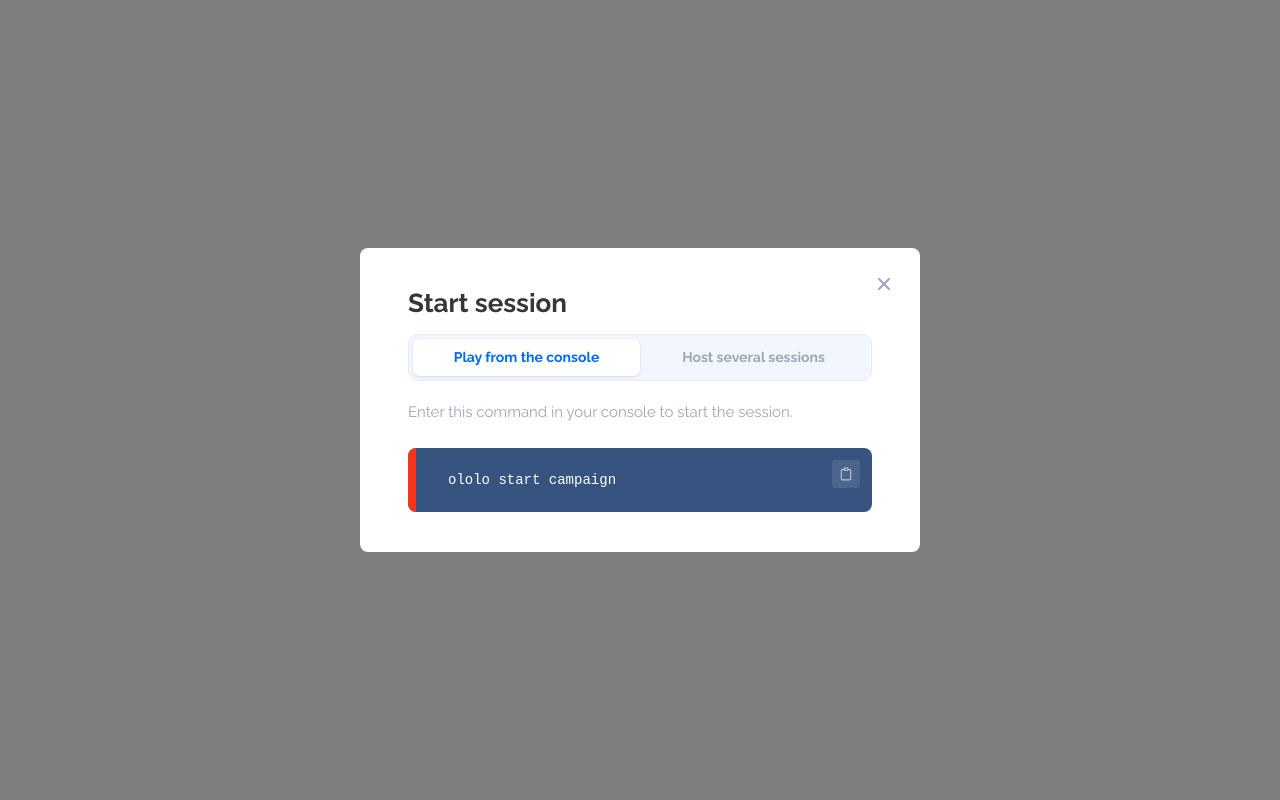
StartSessionPopup › says why the server refused
The image size is (1280, 800).
Click the tab "Host several sessions".
click(754, 358)  # box [640, 339, 867, 376]
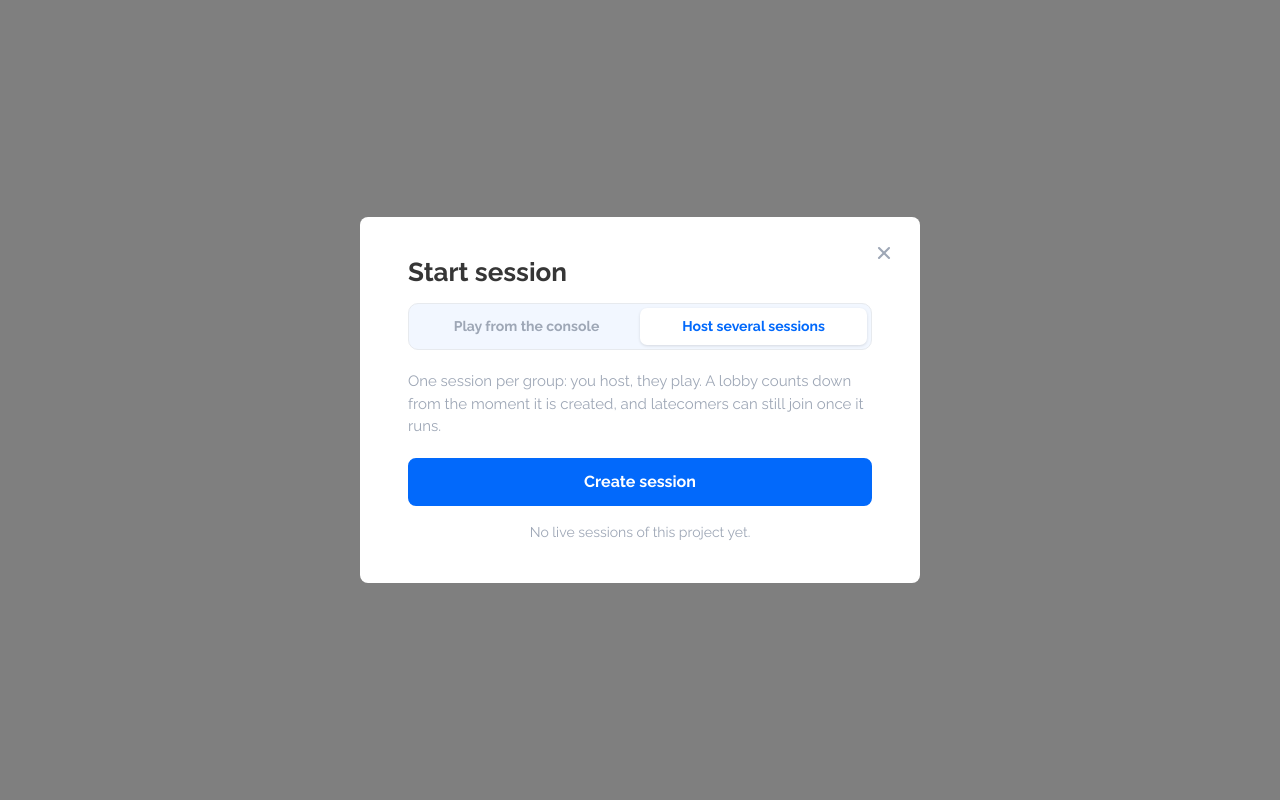
Click the button "Create session".
click(640, 482)  # box [408, 458, 872, 506]
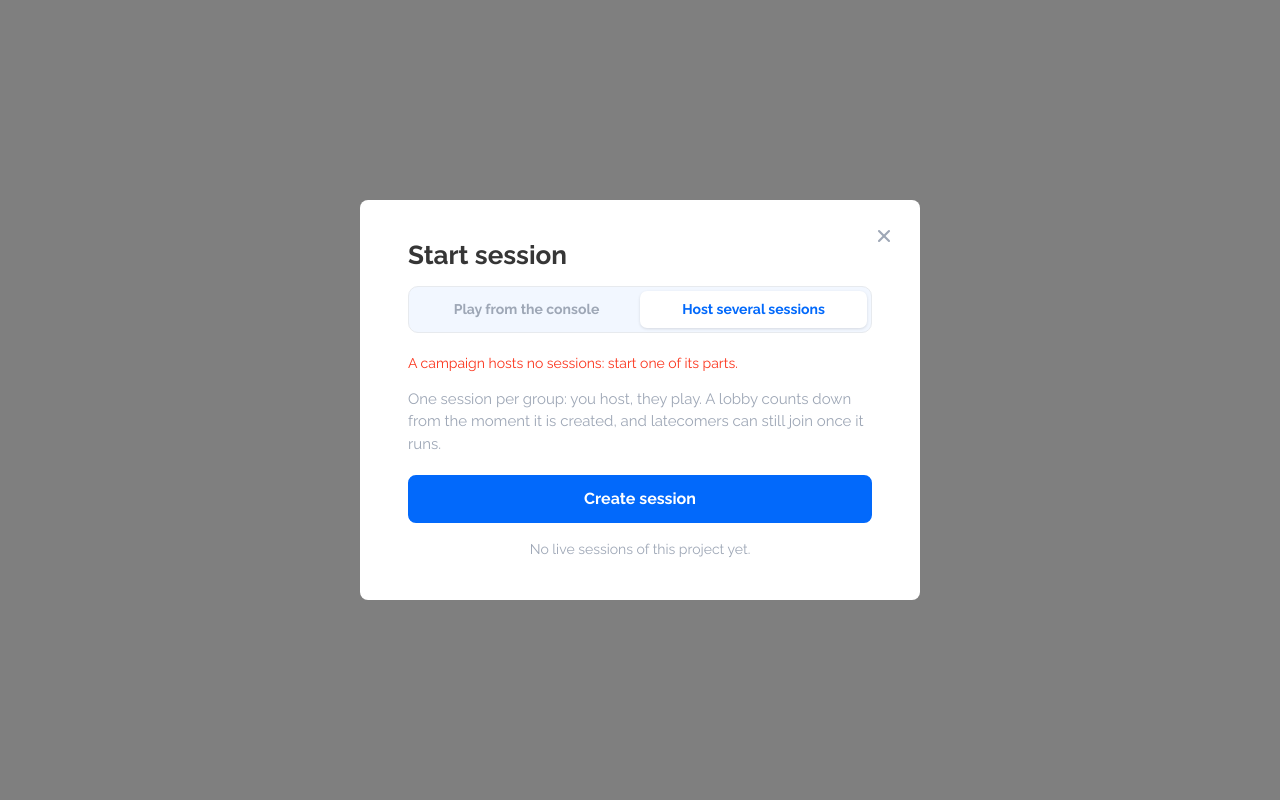
Result: the message shows "start one of its parts" at [408, 355, 738, 371]
